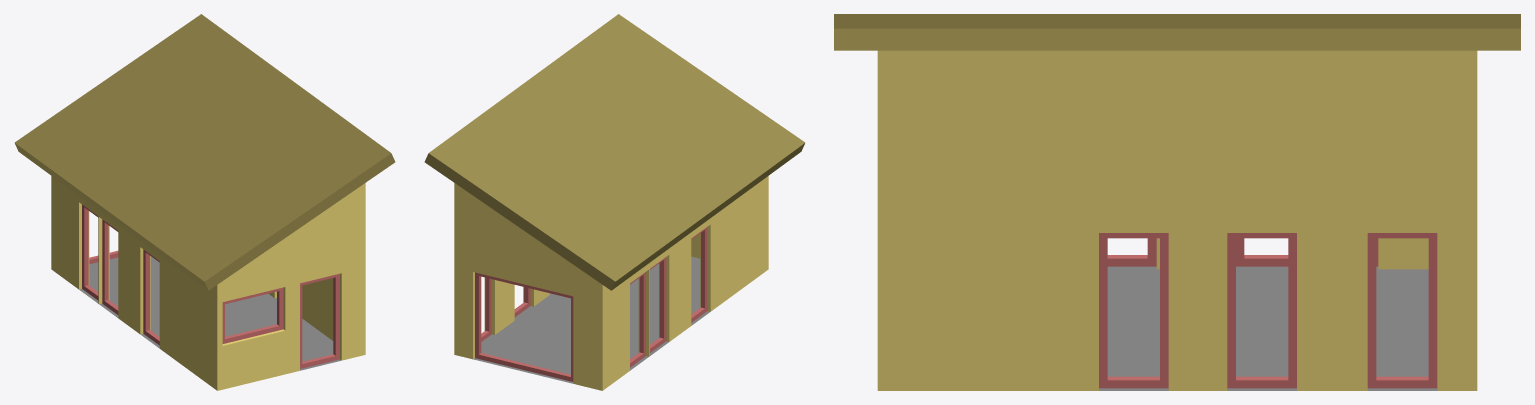
The model's file is result.glb.
3 renders of one model, left to right at view 1: azimuth 30°, elevation 25°; view 2: azimuth 150°, elevation 25°; view 3: azimuth 270°, elevation 25°, orthographic. The views are drawn at different scales.
Parts seen in each view (by area): view 1: eebb0fe3-688f-453c-9862-cb8e30af47c3__undefined, 3902cbd4-4a59-4f29-8b26-8ce1f76342dc__undefined, a29c1ba0-94ac-4a6c-b930-5ef87f611b7b__Plane_10, 2dfd6a7a-c130-4e51-b690-0310fac9a55e__Box, 1e6b3afd-abf5-47b9-b454-c2e9f2f4b86a__Box_3, ca26c3b3-e734-4485-b6fb-10d455e9c0d7__Box_18, f176e5f7-d516-410a-8257-2c127ae4c356__Box_12, 14fc2e44-cef1-4e0f-b436-d635e07e41d6__Box_15; view 2: eebb0fe3-688f-453c-9862-cb8e30af47c3__undefined, 3902cbd4-4a59-4f29-8b26-8ce1f76342dc__undefined, a29c1ba0-94ac-4a6c-b930-5ef87f611b7b__Plane_10, 1d47065b-ab60-4f44-9fb6-2c10d5f83846__Box_9, 14fc2e44-cef1-4e0f-b436-d635e07e41d6__Box_15, f176e5f7-d516-410a-8257-2c127ae4c356__Box_12, ca26c3b3-e734-4485-b6fb-10d455e9c0d7__Box_18, a45e758c-2a63-48fe-b88b-95902116a301__Box_27; view 3: 3902cbd4-4a59-4f29-8b26-8ce1f76342dc__undefined, eebb0fe3-688f-453c-9862-cb8e30af47c3__undefined, a29c1ba0-94ac-4a6c-b930-5ef87f611b7b__Plane_10, a45e758c-2a63-48fe-b88b-95902116a301__Box_27, 8cc15c0a-748d-46c8-8eac-2e666e231465__Box_21, dc170350-f41e-4653-849f-9ca726519d10__Box_24, 14fc2e44-cef1-4e0f-b436-d635e07e41d6__Box_15, f176e5f7-d516-410a-8257-2c127ae4c356__Box_12.
Part boxes in pixels (box(x1,y1,x2,y2)): eebb0fe3-688f-453c-9862-cb8e30af47c3__undefined: box(14, 14, 395, 290); 3902cbd4-4a59-4f29-8b26-8ce1f76342dc__undefined: box(51, 176, 365, 390); a29c1ba0-94ac-4a6c-b930-5ef87f611b7b__Plane_10: box(79, 256, 341, 370); 2dfd6a7a-c130-4e51-b690-0310fac9a55e__Box: box(300, 273, 339, 368); 1e6b3afd-abf5-47b9-b454-c2e9f2f4b86a__Box_3: box(222, 287, 283, 343); ca26c3b3-e734-4485-b6fb-10d455e9c0d7__Box_18: box(82, 204, 98, 300); f176e5f7-d516-410a-8257-2c127ae4c356__Box_12: box(143, 249, 159, 345); 14fc2e44-cef1-4e0f-b436-d635e07e41d6__Box_15: box(102, 219, 118, 314); eebb0fe3-688f-453c-9862-cb8e30af47c3__undefined: box(424, 14, 805, 290); 3902cbd4-4a59-4f29-8b26-8ce1f76342dc__undefined: box(454, 176, 768, 390); a29c1ba0-94ac-4a6c-b930-5ef87f611b7b__Plane_10: box(473, 256, 709, 383); 1d47065b-ab60-4f44-9fb6-2c10d5f83846__Box_9: box(475, 272, 573, 381); 14fc2e44-cef1-4e0f-b436-d635e07e41d6__Box_15: box(650, 257, 666, 352); f176e5f7-d516-410a-8257-2c127ae4c356__Box_12: box(691, 227, 707, 322); ca26c3b3-e734-4485-b6fb-10d455e9c0d7__Box_18: box(630, 272, 645, 367); a45e758c-2a63-48fe-b88b-95902116a301__Box_27: box(481, 277, 491, 341); 3902cbd4-4a59-4f29-8b26-8ce1f76342dc__undefined: box(877, 50, 1477, 390); eebb0fe3-688f-453c-9862-cb8e30af47c3__undefined: box(834, 14, 1520, 50); a29c1ba0-94ac-4a6c-b930-5ef87f611b7b__Plane_10: box(1099, 266, 1437, 390); a45e758c-2a63-48fe-b88b-95902116a301__Box_27: box(1367, 233, 1437, 388); 8cc15c0a-748d-46c8-8eac-2e666e231465__Box_21: box(1099, 233, 1168, 388); dc170350-f41e-4653-849f-9ca726519d10__Box_24: box(1227, 233, 1296, 388); 14fc2e44-cef1-4e0f-b436-d635e07e41d6__Box_15: box(1236, 238, 1288, 266); f176e5f7-d516-410a-8257-2c127ae4c356__Box_12: box(1107, 238, 1156, 266).
Bounding box in the file's own units: 457 × 474 × 788.
